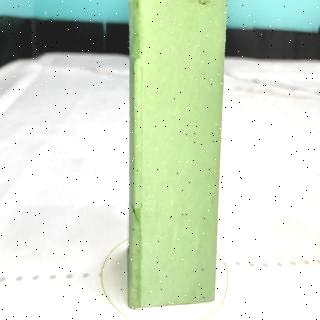greenbox: (126, 0, 228, 309)
